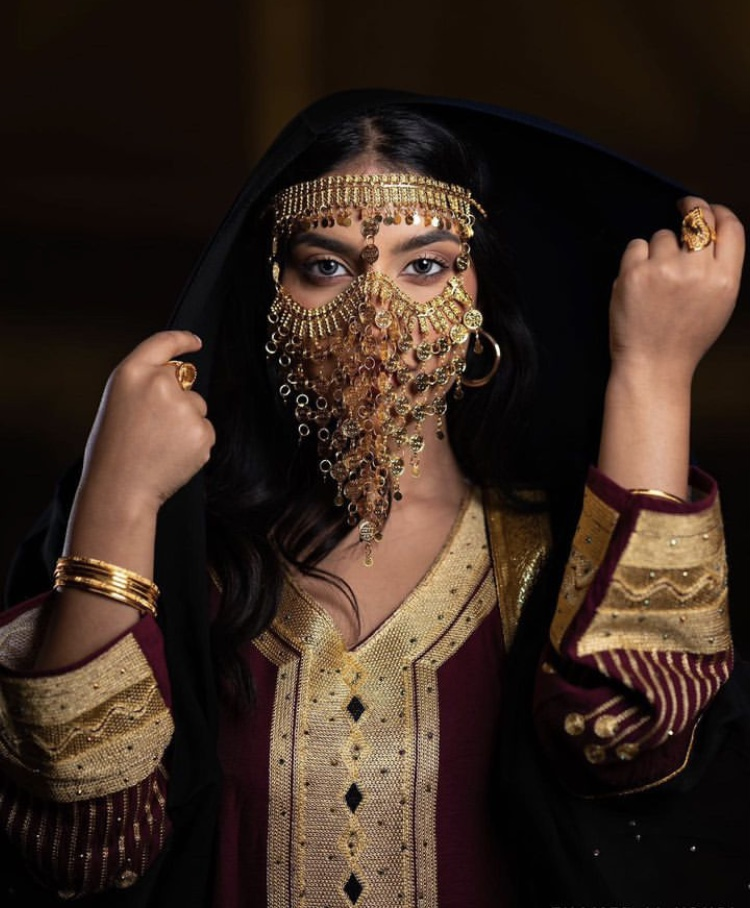Saudi_Founding_Day: (1, 86, 750, 907)
